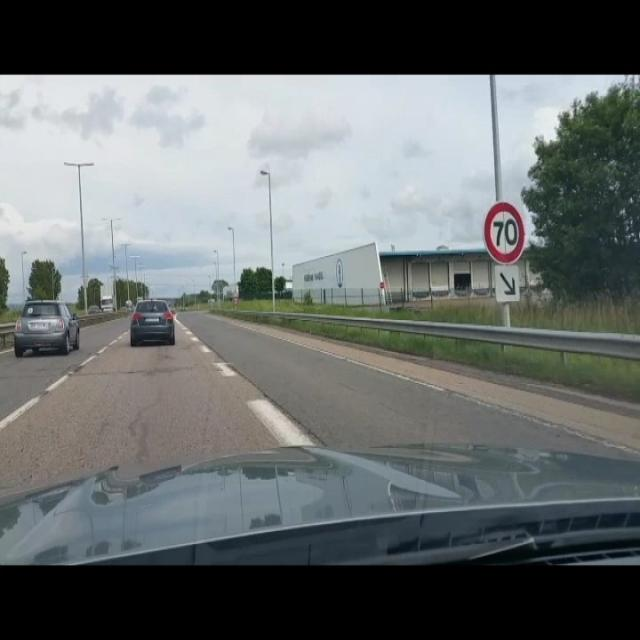side_right: (495, 266, 520, 301)
speed_70: (482, 200, 526, 265)
